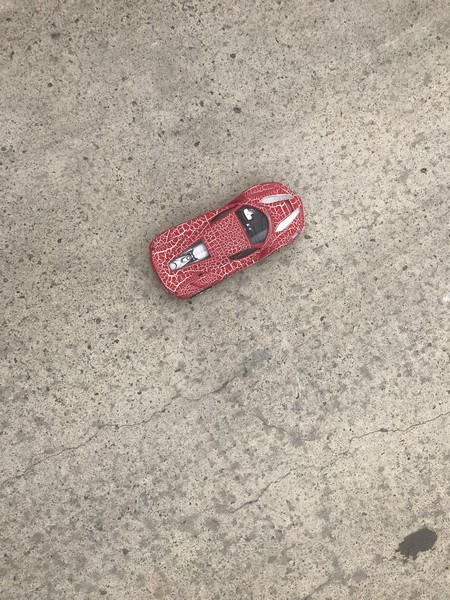RC: (146, 181, 307, 303)
